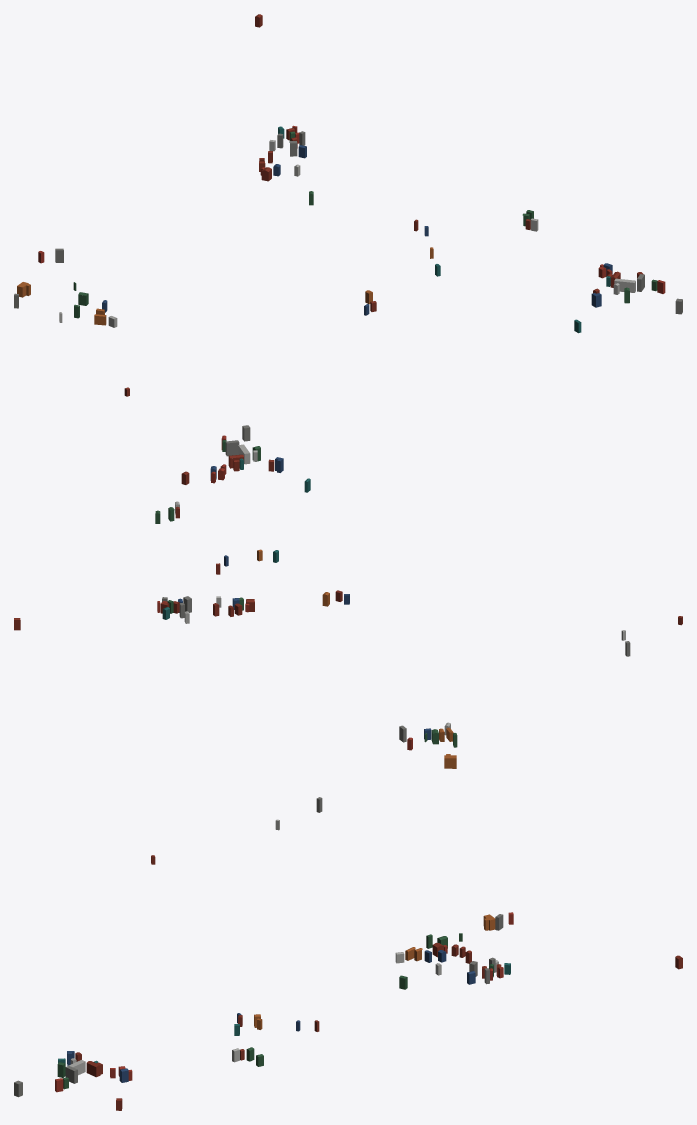
Rendered from near-15-27366-14872.76f9cc72.glb.
3 renders of one model, top to bottom at view 1: azimuth 30°, elevation 25°; view 2: azimuth 150°, elevation 25°; view 3: azimuth 270°, elevation 25°, orthographic. The views are drawn at different scales.
Bounding box in the file's own units: 1005 × 258 × 1066.
